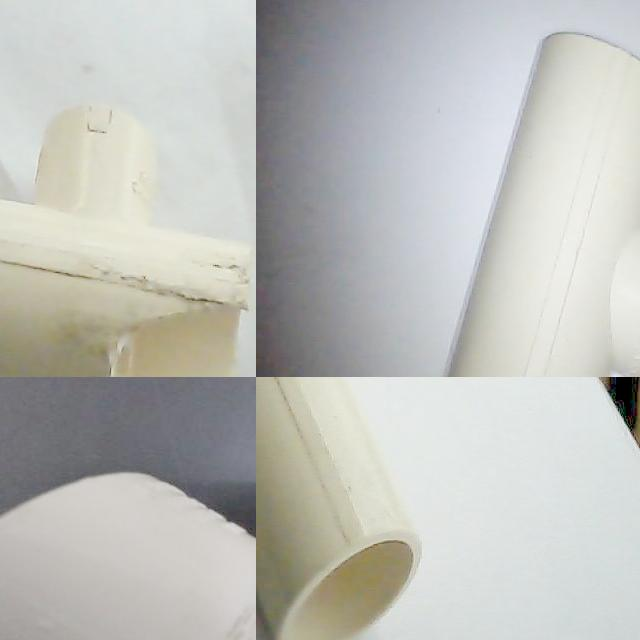Defective: (128, 272, 240, 377), (97, 324, 135, 377), (226, 247, 256, 309)
T Joint: (0, 102, 252, 377), (443, 31, 640, 377), (256, 377, 423, 640)
